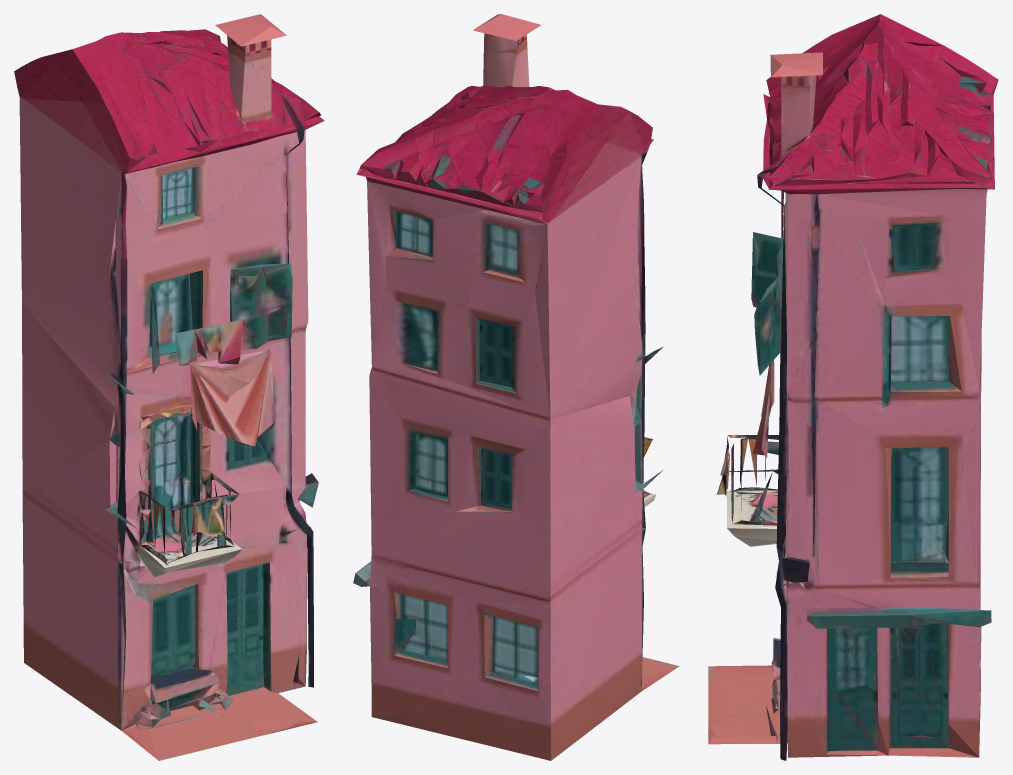
Rendered from building_2.glb.
3 views of the same model, side by side, from view 1: azimuth 30°, elevation 25°; view 2: azimuth 150°, elevation 25°; view 3: azimuth 270°, elevation 25° (orthographic). The views are drawn at different scales.
Bounding box in the file's own units: 0.6257 × 1.9 × 0.7423.
1 material, 1 textured.
